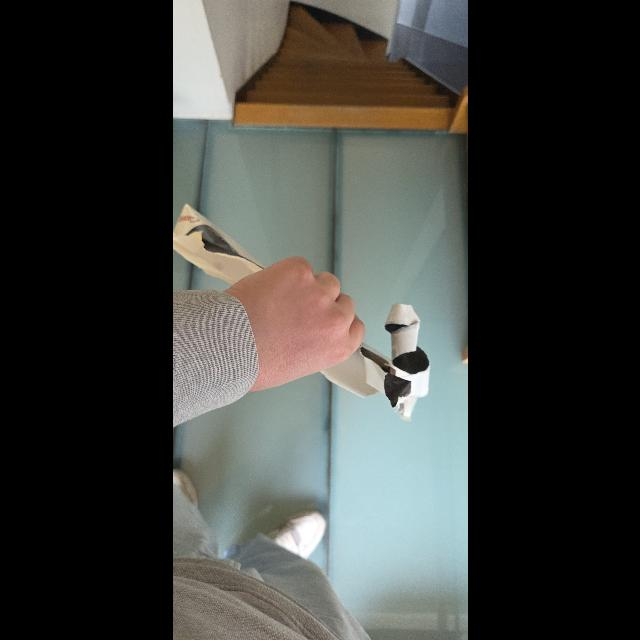Cardboard: (172, 198, 436, 416)
